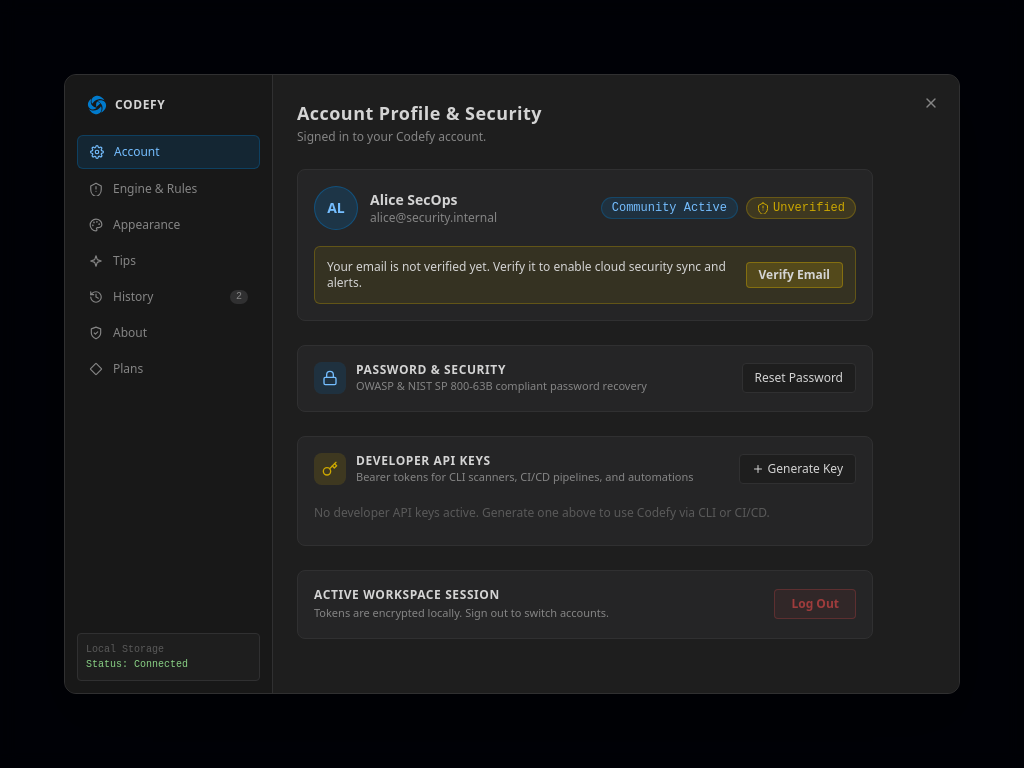
Test case: SettingsHistoryModal › switches to Appearance tab and displays theme settings
The image size is (1024, 768).
Click the button "Appearance" at (168, 225), box [77, 209, 260, 241]
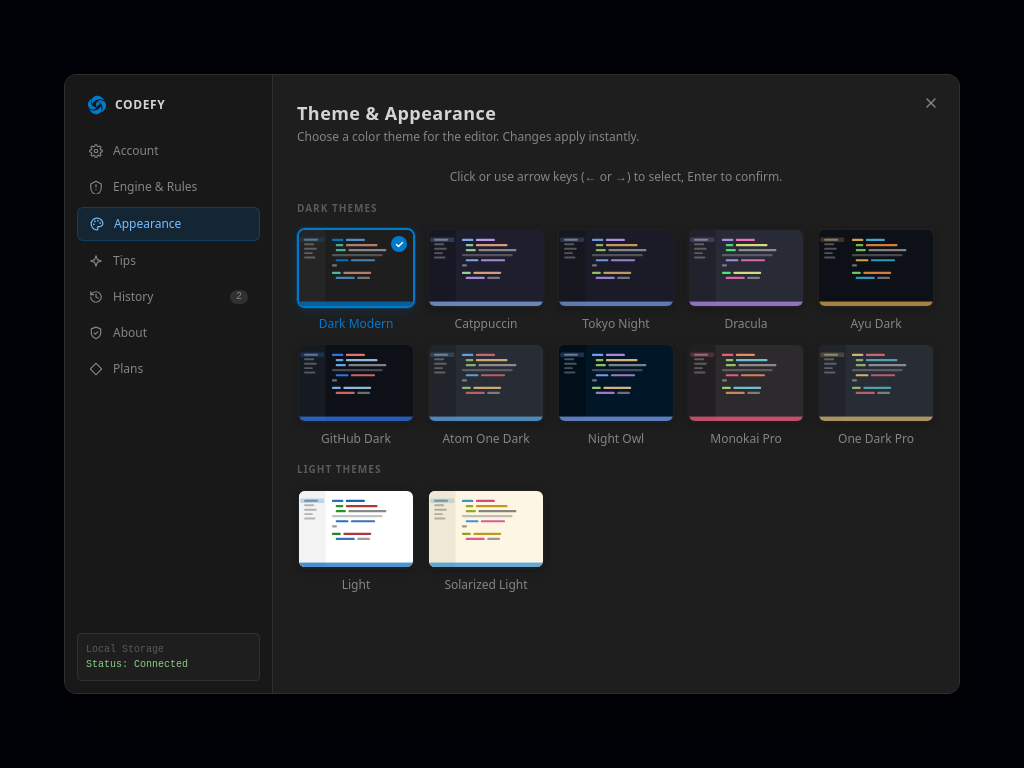
Expected: the heading "Theme & Appearance" is shown, [297, 101, 496, 125]
Expected: the text "Choose a color theme for the editor. Changes apply instantly." is shown, [297, 128, 639, 145]
